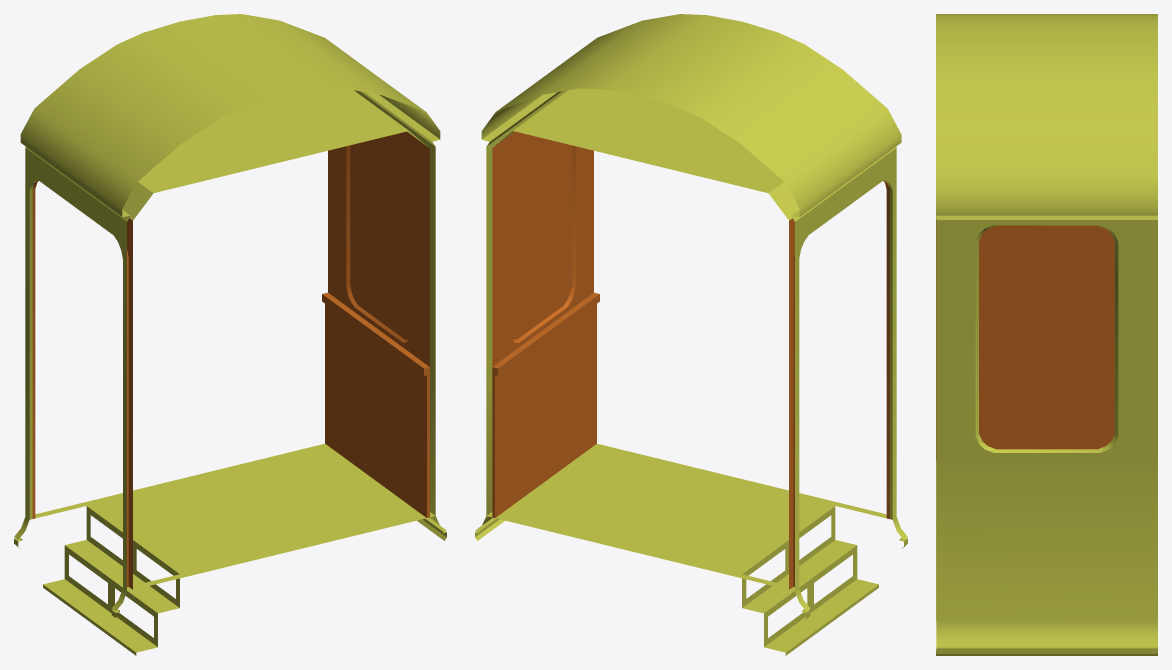
The model's file is vagon enter lod1.FBX.
3 renders of one model, left to right at view 1: azimuth 30°, elevation 25°; view 2: azimuth 150°, elevation 25°; view 3: azimuth 270°, elevation 25°, orthographic. The views are drawn at different scales.
Parts seen in each view (by area): view 1: Object883; view 2: Object883; view 3: Object883.
Part boxes in pixels (box(x1,y1,x2,y2)): Object883: box(14, 14, 446, 655); Object883: box(475, 14, 907, 655); Object883: box(936, 14, 1157, 655).
Bounding box in the file's own units: 2.25 × 3.44 × 1.2.
